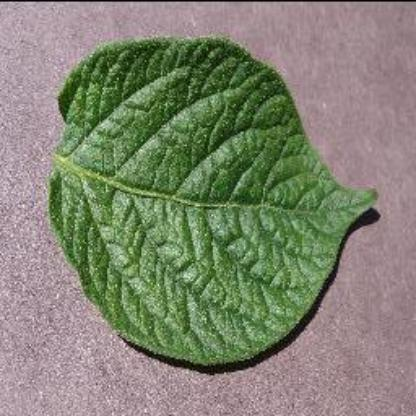Healthy-plant: (47, 29, 385, 378)
